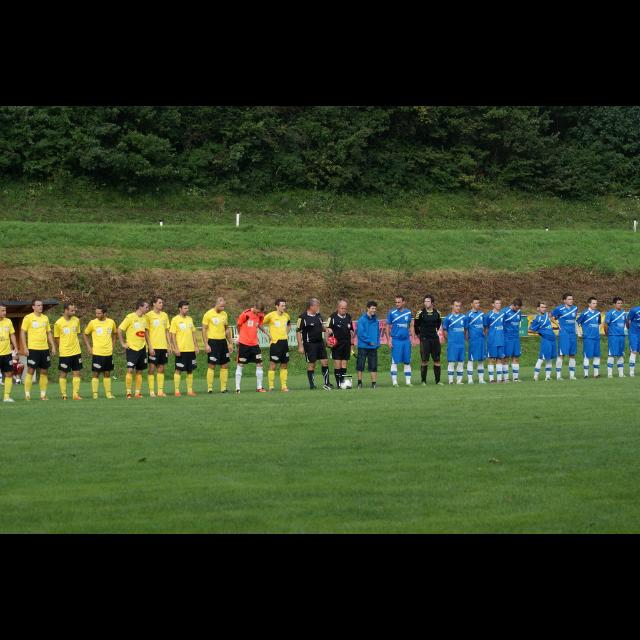Football: (340, 376, 352, 388)
